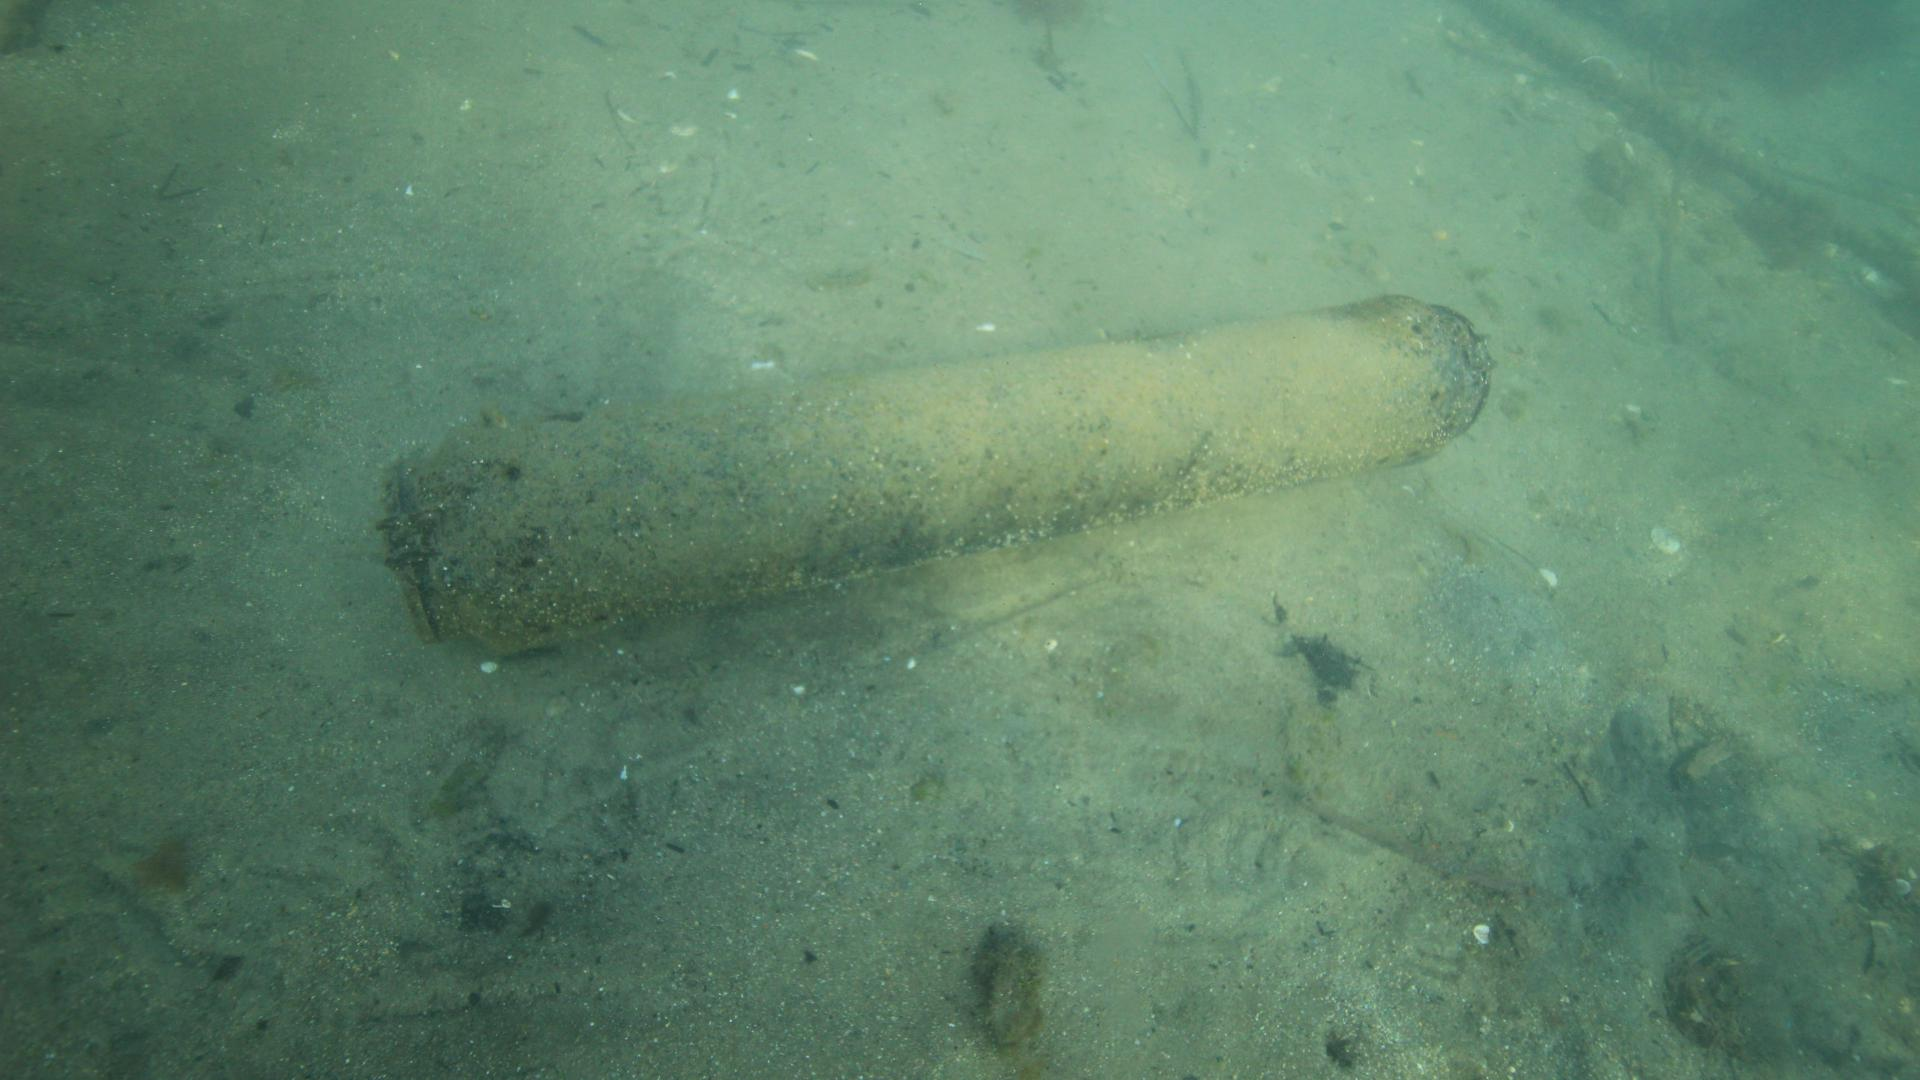eel fish trap: (384, 294, 1491, 658)
rope: (1469, 0, 1920, 294)
